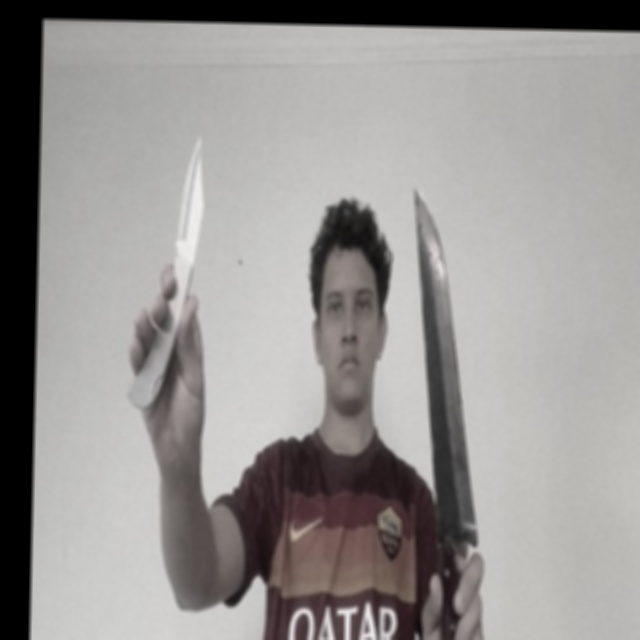Sharp-Object: (407, 187, 486, 542), (175, 133, 206, 258)
